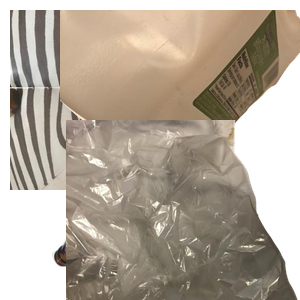glass: (49, 145, 229, 300)
paper: (10, 10, 250, 190)
plastic: (60, 10, 300, 160)
trash: (66, 120, 300, 300)
